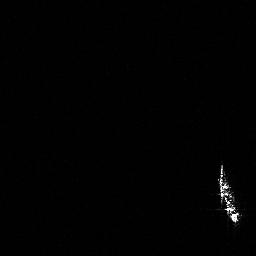ship: (214, 159, 245, 225)
